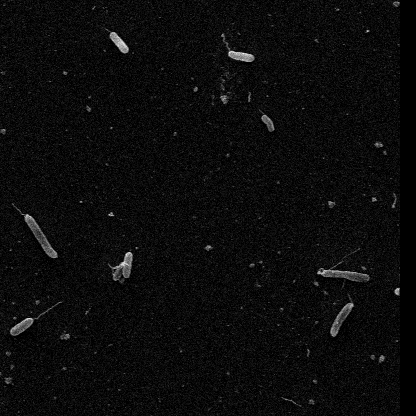cell2cell: (326, 246, 362, 272), (30, 300, 66, 322), (9, 200, 25, 219), (220, 32, 233, 54), (346, 291, 356, 308), (257, 107, 269, 119), (106, 261, 119, 270), (102, 26, 113, 34)
cell2surface: (23, 214, 57, 258), (317, 266, 371, 284), (329, 302, 354, 339), (9, 316, 35, 337), (109, 32, 130, 54), (227, 51, 257, 63), (122, 252, 133, 280), (260, 114, 275, 133), (114, 264, 125, 283)
